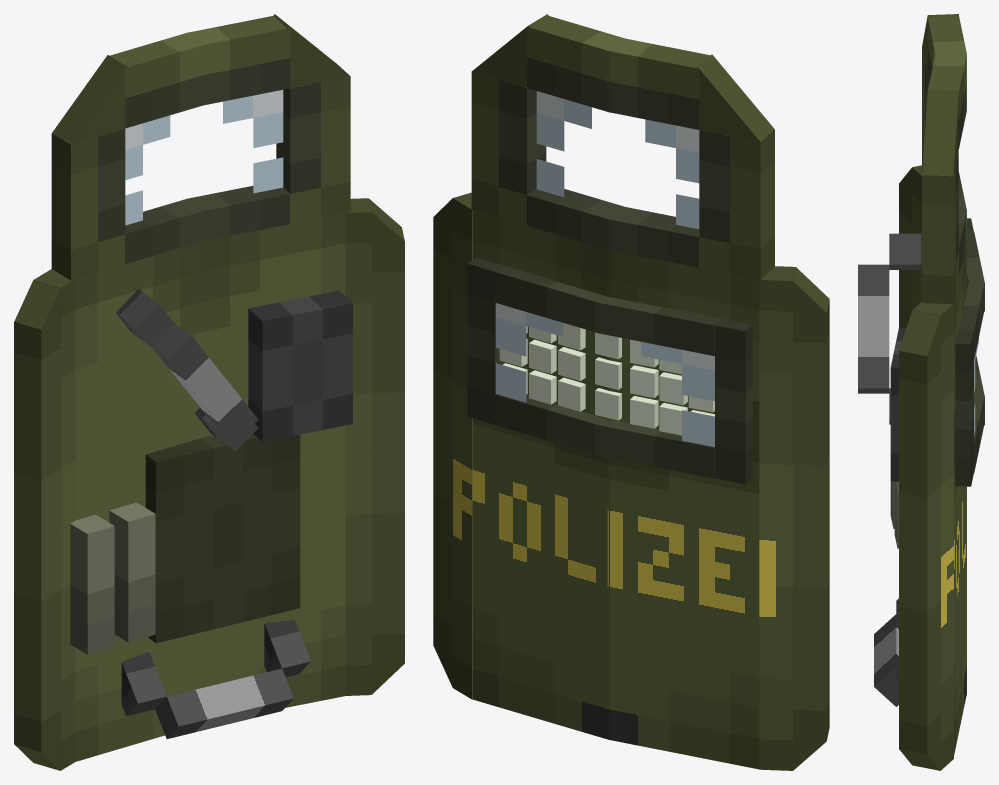
Rendered from g52_shield.glb.
3 renders of one model, left to right at view 1: azimuth 30°, elevation 25°; view 2: azimuth 150°, elevation 25°; view 3: azimuth 270°, elevation 25°, orthographic. The views are drawn at different scales.
Parts seen in each view (by area): view 1: bone_18, bone2_27, G52_11, bone_21, bone2_29, bone2_28, G52_10, G52_7, G52_6, G52_1, bone_20, G52_0 (+17 smaller); view 2: bone_18, bone2_27, bone_21, bone2_29, G52_10, G52_7, G52_1, G52_6, G52_0, bone3_37, G52_2, bone3_63 (+24 smaller); view 3: bone2_29, G52_14, bone2_27, G52_7, bone3_63, G52_8, bone_21, G52_17, G52_6, G52_1, G52_2, bone2_30 (+15 smaller).
Boxes of the visible parts, x1,y1,x2,y2 form: bone_18: (75,241,203,761); bone2_27: (203,213,345,707); G52_11: (145,433,300,643); bone_21: (14,309,75,752); bone2_29: (345,241,404,665); bone2_28: (248,290,352,441); G52_10: (51,128,125,249); G52_7: (276,76,350,193); G52_6: (186,16,290,105); G52_1: (109,33,206,128); bone_20: (70,514,114,654); G52_0: (51,199,206,280); bone_18: (607,250,759,769); bone2_27: (472,210,609,739); bone_21: (759,299,829,741); bone2_29: (433,217,472,668); G52_10: (699,129,774,249); G52_7: (471,72,546,194); G52_1: (607,38,709,129); G52_6: (527,16,626,112); G52_0: (607,206,774,279); bone3_37: (715,319,752,484); G52_2: (471,179,624,250); bone3_63: (467,258,504,424); bone2_29: (899,332,953,754); G52_14: (858,264,889,393); bone2_27: (953,241,966,754); G52_7: (922,151,958,275); bone3_63: (955,330,973,486); G52_8: (922,89,958,176); bone_21: (899,184,921,328); G52_17: (874,614,898,706); G52_6: (928,52,966,149); G52_1: (927,16,966,110); G52_2: (922,209,966,304); bone2_30: (899,310,940,356).
Size of the model in its own units: 0.8405 by 1.41 by 0.2526.
1 material, 1 textured.
